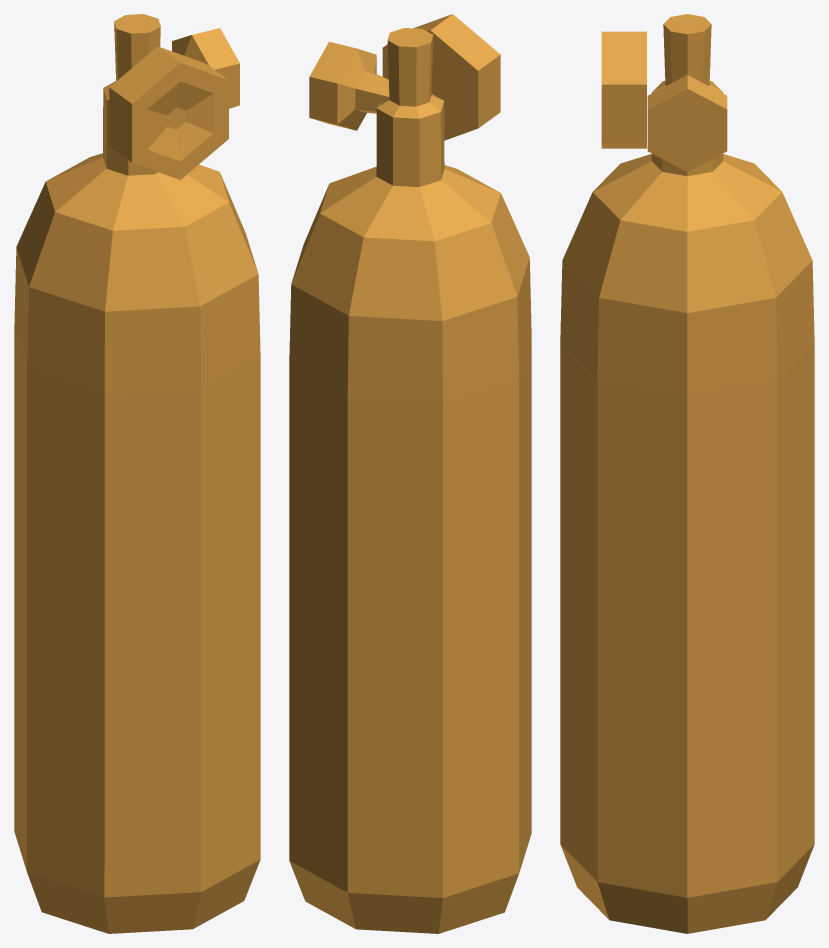
File: oxygen-cylinder.fbx
3 renders of one model, left to right at view 1: azimuth 30°, elevation 25°; view 2: azimuth 150°, elevation 25°; view 3: azimuth 270°, elevation 25°, orthographic.
Visible parts, largest first — view 1: oxygen-cylinder; view 2: oxygen-cylinder; view 3: oxygen-cylinder.
Part boxes in pixels (<box>): oxygen-cylinder: <box>14,14,260,933</box>; oxygen-cylinder: <box>289,14,531,933</box>; oxygen-cylinder: <box>560,14,814,933</box>.
Size of the model in its own units: 0.2521 by 0.9436 by 0.2521.
